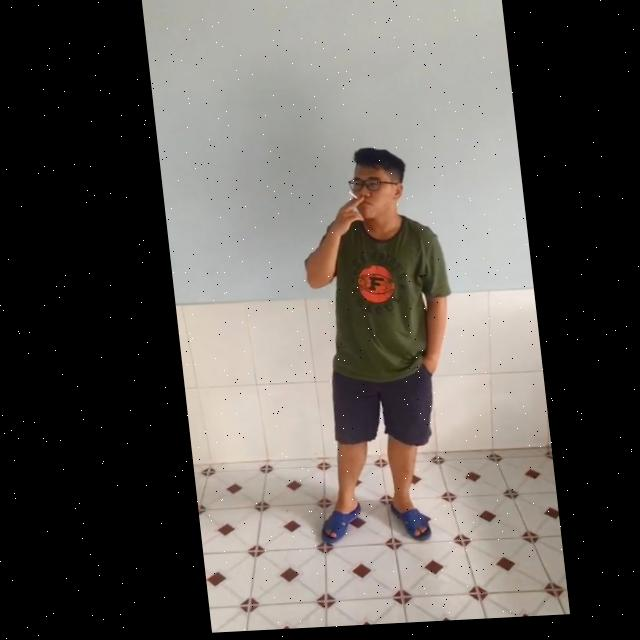cigarette: (342, 193, 353, 204)
